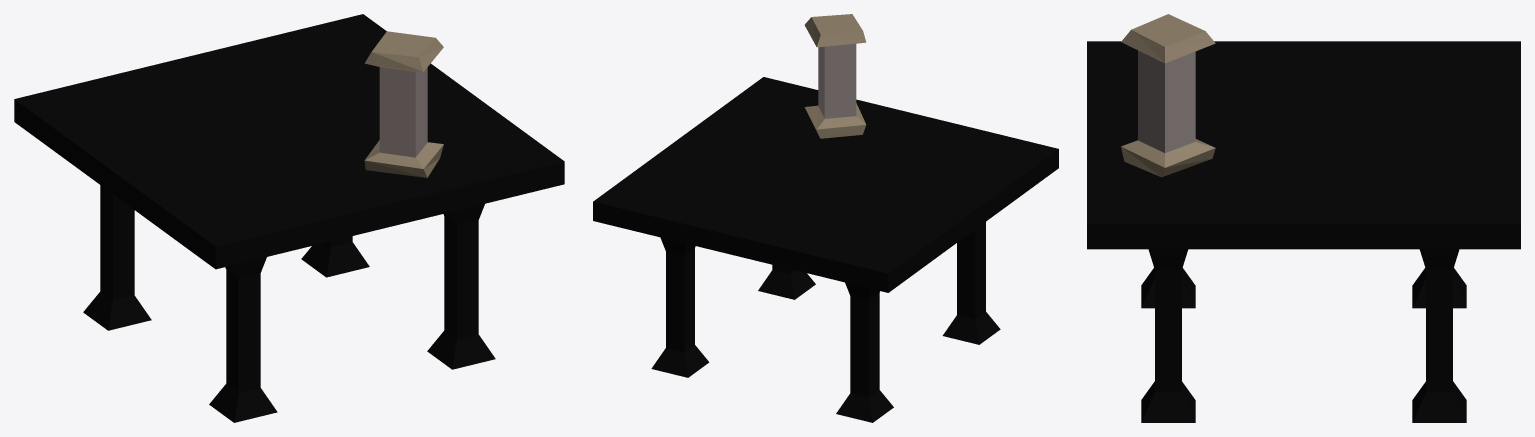
File: obj_table_12_0.obj
3 views of the same model, side by side, from view 1: azimuth 30°, elevation 25°; view 2: azimuth 150°, elevation 25°; view 3: azimuth 270°, elevation 25° (orthographic). The views are drawn at different scales.
Size of the model in its own units: 1 by 0.8906 by 1.
